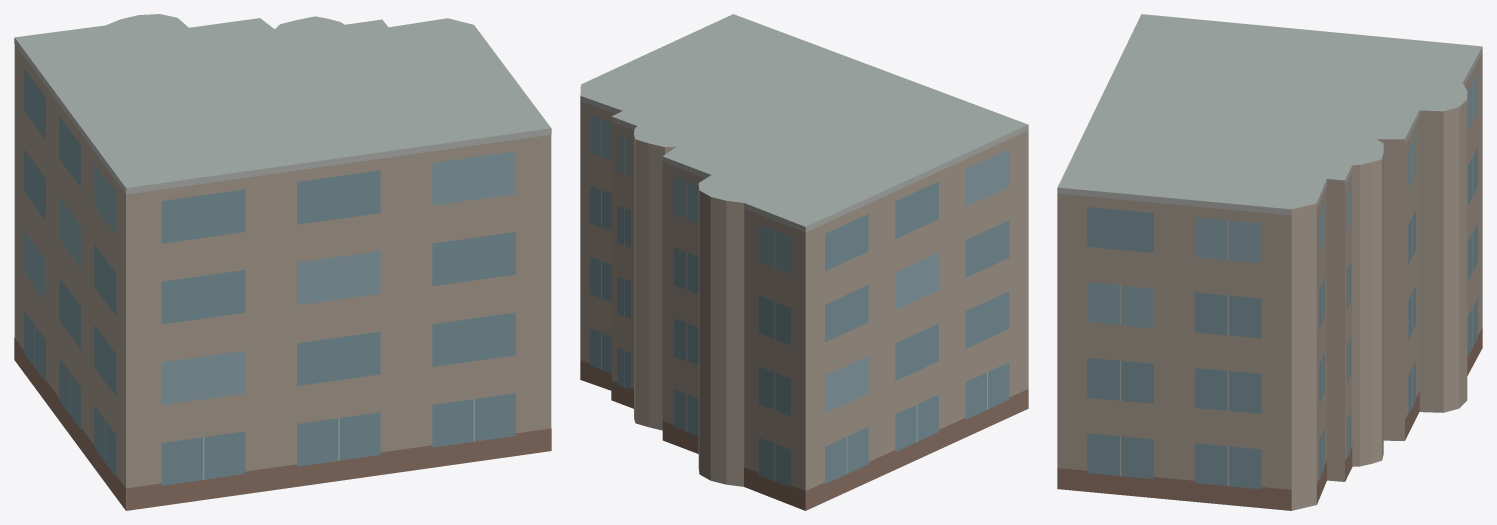
Rendered from survey-upis-32586434.glb.
The picture shows the model from 3 angles, left to right: view 1: azimuth 30°, elevation 25°; view 2: azimuth 150°, elevation 25°; view 3: azimuth 270°, elevation 25°; orthographic projection. The views are drawn at different scales.
Parts seen in each view (by area): view 1: survey-upis-32586434.tmp; view 2: survey-upis-32586434.tmp; view 3: survey-upis-32586434.tmp.
Boxes of the visible parts, <box> form: survey-upis-32586434.tmp: <box>14,14,551,510</box>; survey-upis-32586434.tmp: <box>580,14,1028,510</box>; survey-upis-32586434.tmp: <box>1057,14,1482,510</box>.
Size of the model in its own units: 16.96 by 12.2 by 15.6.
